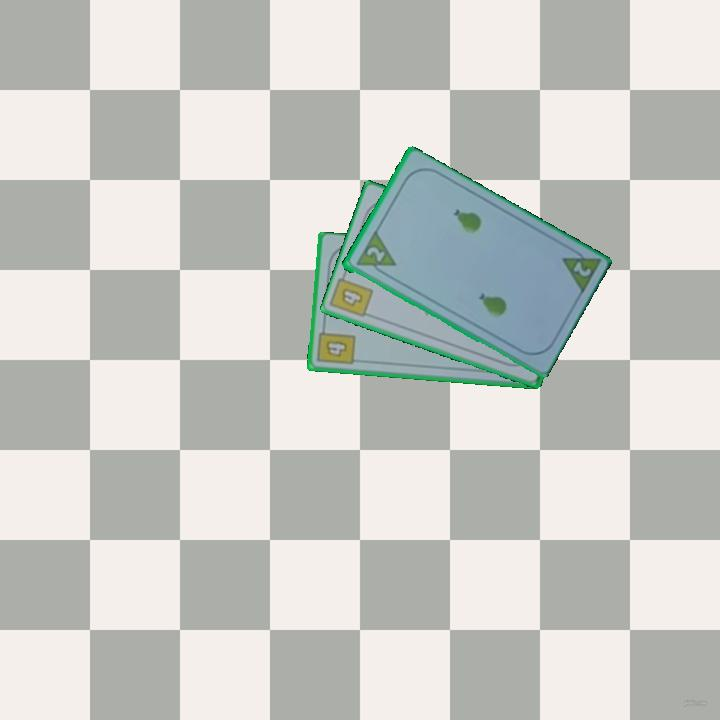2p: (558, 242, 602, 298), (352, 229, 398, 280)
4b: (314, 323, 358, 368), (338, 285, 366, 310)
